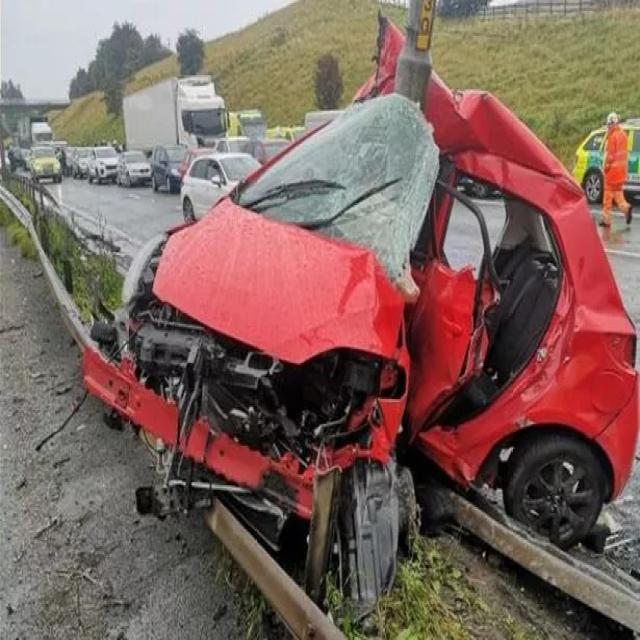car-serious-accident: (92, 41, 640, 554)
